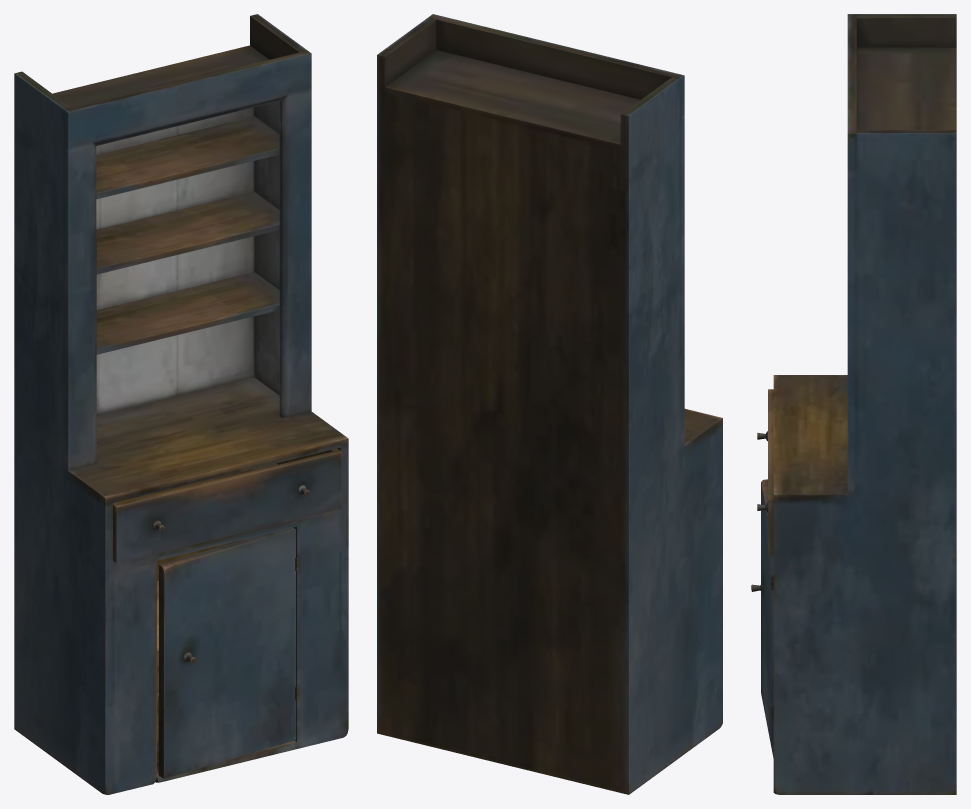
File: painted-cabinet-02.glb
3 renders of one model, left to right at view 1: azimuth 30°, elevation 25°; view 2: azimuth 150°, elevation 25°; view 3: azimuth 270°, elevation 25°, orthographic. The views are drawn at different scales.
Parts seen in each view (by area): view 1: painted_wooden_cabinet_02; view 2: painted_wooden_cabinet_02; view 3: painted_wooden_cabinet_02.
Part boxes in pixels (x1,y1,x2,y2): painted_wooden_cabinet_02: (14,14,348,794); painted_wooden_cabinet_02: (377,14,722,794); painted_wooden_cabinet_02: (751,14,956,794).
Size of the model in its own units: 0.9969 by 2.57 by 0.7225.
1 material, 1 textured.
